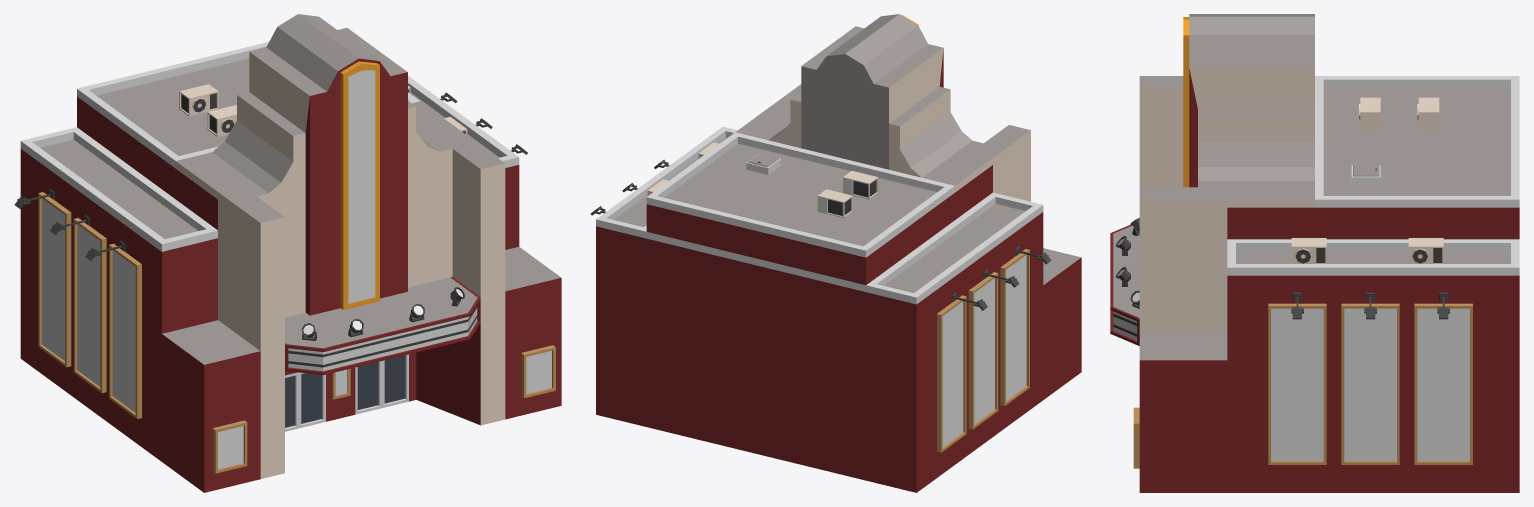
Rendered from building-cinema.fbx.
3 renders of one model, left to right at view 1: azimuth 30°, elevation 25°; view 2: azimuth 150°, elevation 25°; view 3: azimuth 270°, elevation 25°, orthographic. The views are drawn at different scales.
Parts seen in each view (by area): view 1: building-cinema; view 2: building-cinema; view 3: building-cinema.
Part boxes in pixels (<box>): building-cinema: <box>14,14,561,492</box>; building-cinema: <box>590,14,1081,492</box>; building-cinema: <box>1110,14,1519,492</box>.
Size of the model in its own units: 17.92 by 14.58 by 14.
